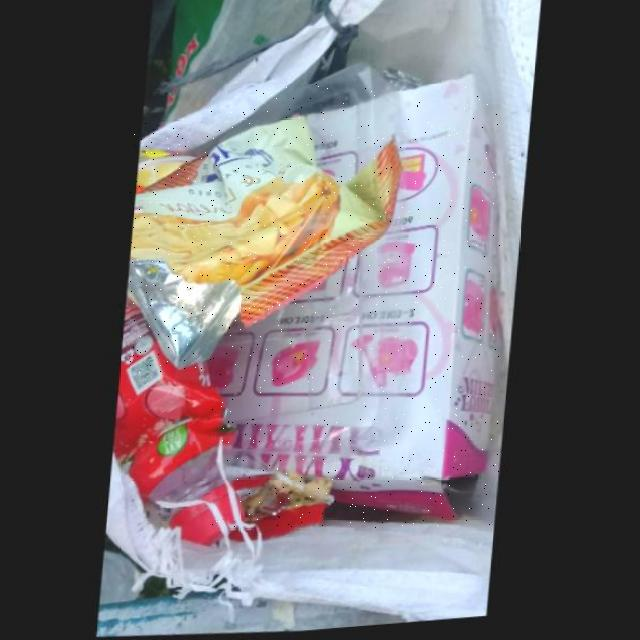paper: (211, 85, 501, 529)
wrapper: (130, 123, 405, 374)
